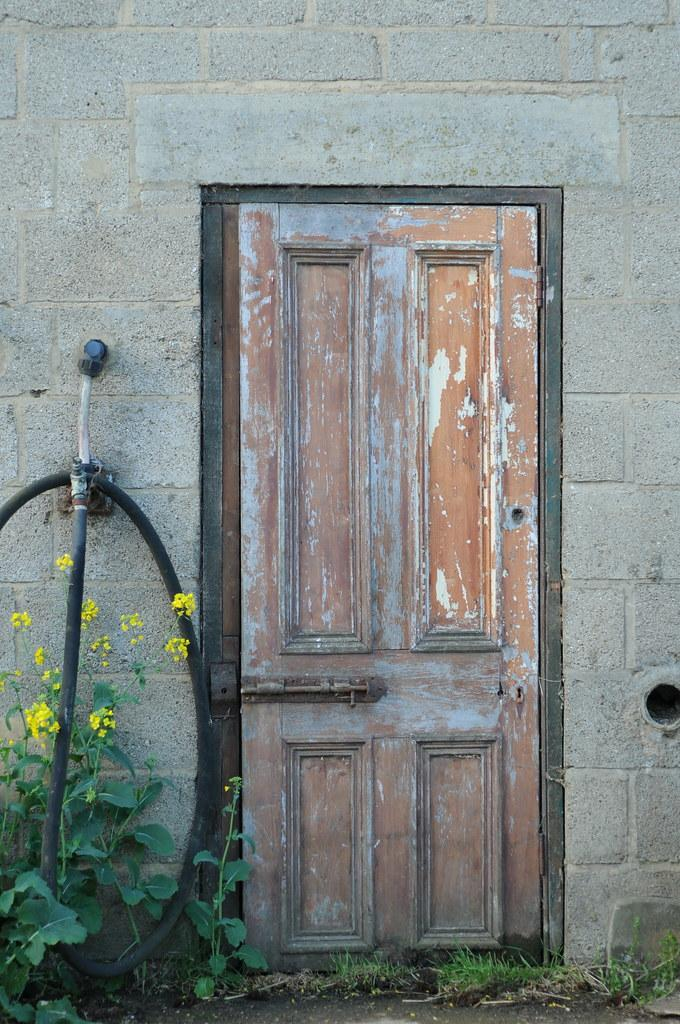door: (220, 191, 549, 973)
